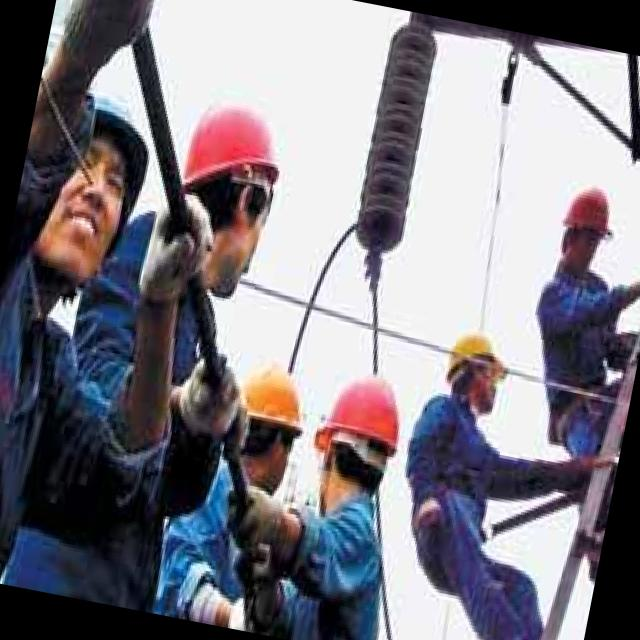helmet: (3, 66, 165, 300), (161, 79, 306, 289), (299, 359, 413, 526), (217, 343, 323, 498), (549, 177, 623, 284), (432, 318, 514, 414)
